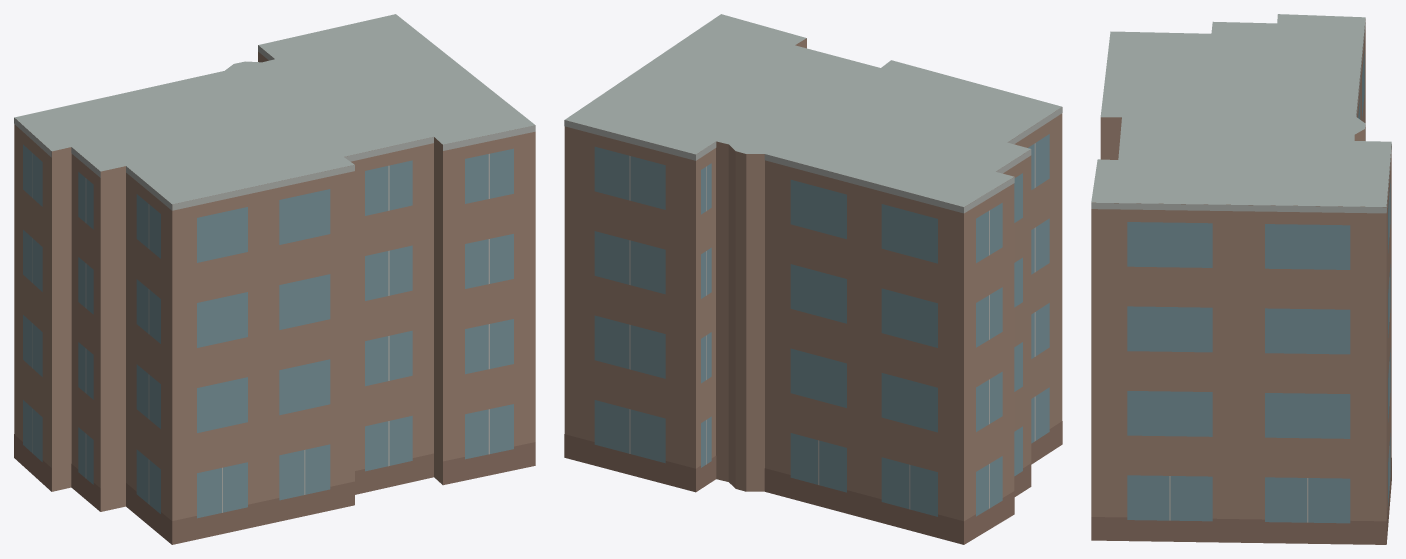
Rendered from survey-upis-32762047.glb.
3 views of the same model, side by side, from view 1: azimuth 30°, elevation 25°; view 2: azimuth 150°, elevation 25°; view 3: azimuth 270°, elevation 25° (orthographic).
Parts seen in each view (by area): view 1: survey-upis-32762047.tmp; view 2: survey-upis-32762047.tmp; view 3: survey-upis-32762047.tmp.
Part boxes in pixels (<box>): survey-upis-32762047.tmp: <box>14,14,535,544</box>; survey-upis-32762047.tmp: <box>564,14,1062,544</box>; survey-upis-32762047.tmp: <box>1091,14,1391,544</box>.
Bounding box in the file's own units: 15.95 × 13 × 10.5.
